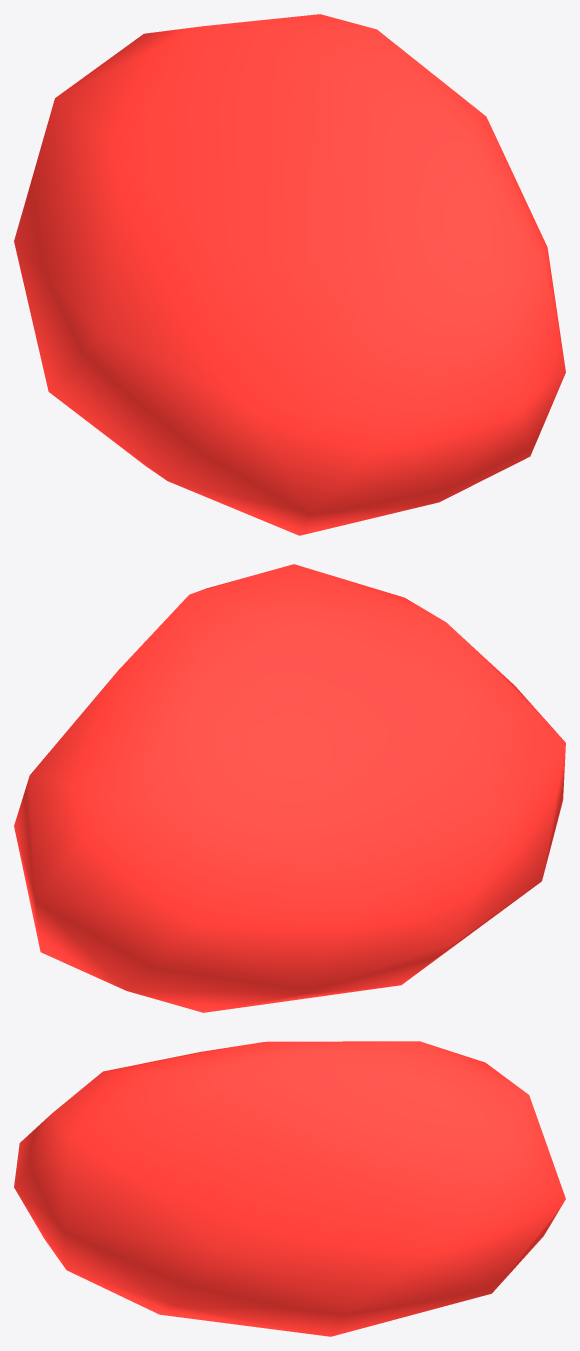
The model's file is jelly-bean-patio-lights-red.glb.
The picture shows the model from 3 angles, top to bottom: view 1: azimuth 30°, elevation 25°; view 2: azimuth 150°, elevation 25°; view 3: azimuth 270°, elevation 25°; orthographic projection. The views are drawn at different scales.
Parts seen in each view (by area): view 1: red; view 2: red; view 3: red.
Part boxes in pixels (<box>): red: <box>14,14,565,535</box>; red: <box>14,564,565,1012</box>; red: <box>14,1041,565,1336</box>.
Size of what is drawn, in the model's own units: 0.3926 by 0.3747 by 0.6228.
